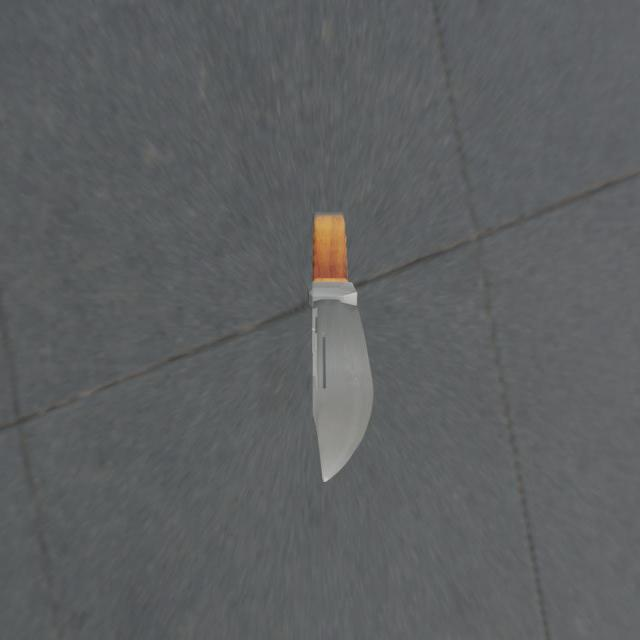knife: (308, 204, 353, 303)
